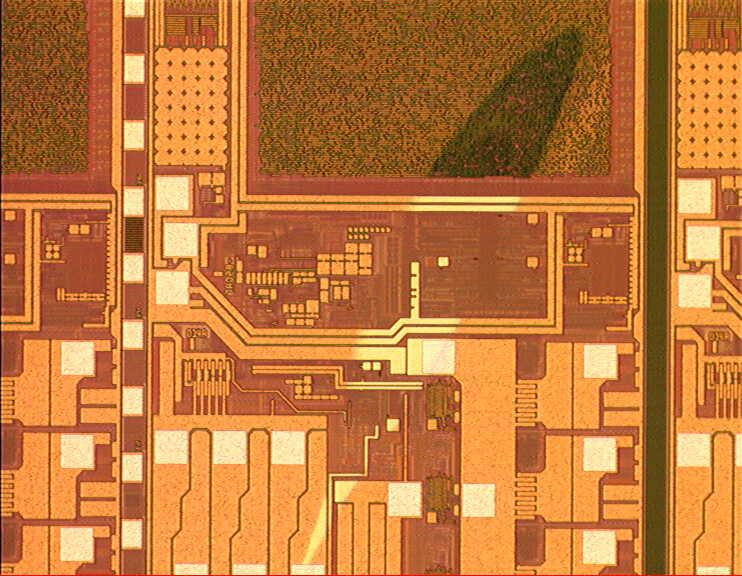BLOCK ETCH: (274, 18, 591, 569)
